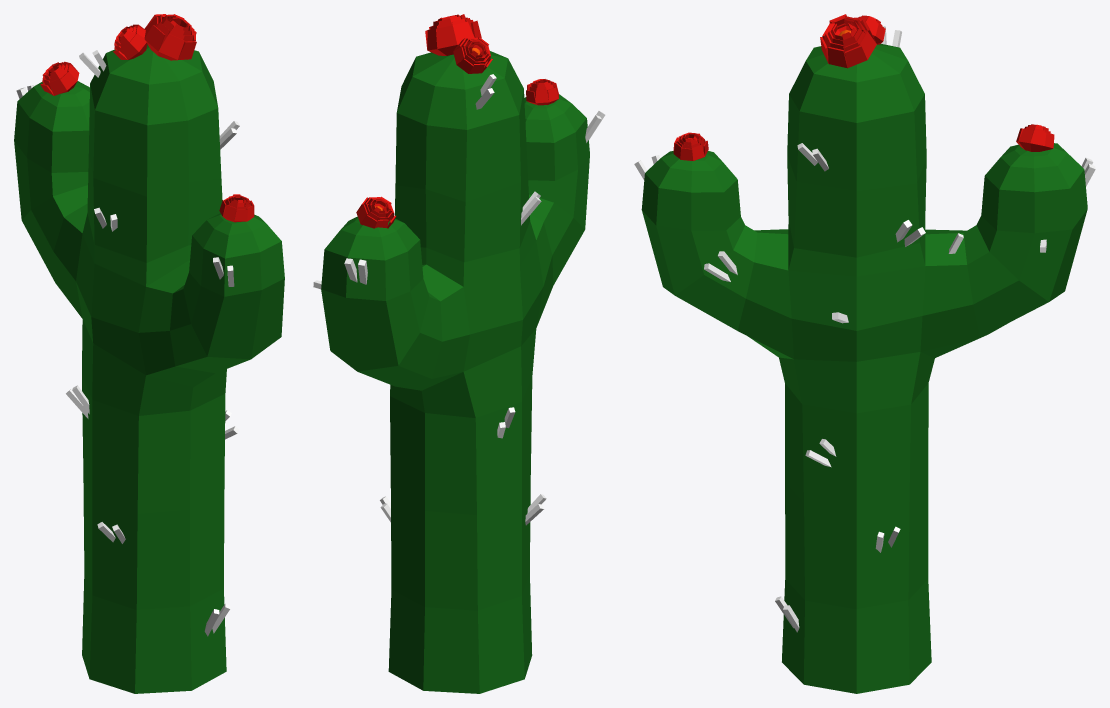
Rendered from Cactus_01.obj.
3 views of the same model, side by side, from view 1: azimuth 30°, elevation 25°; view 2: azimuth 150°, elevation 25°; view 3: azimuth 270°, elevation 25° (orthographic).
Parts seen in each view (by area): view 1: Cactus_Circle.014; view 2: Cactus_Circle.014; view 3: Cactus_Circle.014.
Boxes of the visible parts, x1=… form: Cactus_Circle.014: x1=14, y1=14, x2=284, y2=693; Cactus_Circle.014: x1=313, y1=14, x2=605, y2=693; Cactus_Circle.014: x1=634, y1=14, x2=1095, y2=693.
Size of the model in its own units: 2.38 by 10.02 by 6.47.
